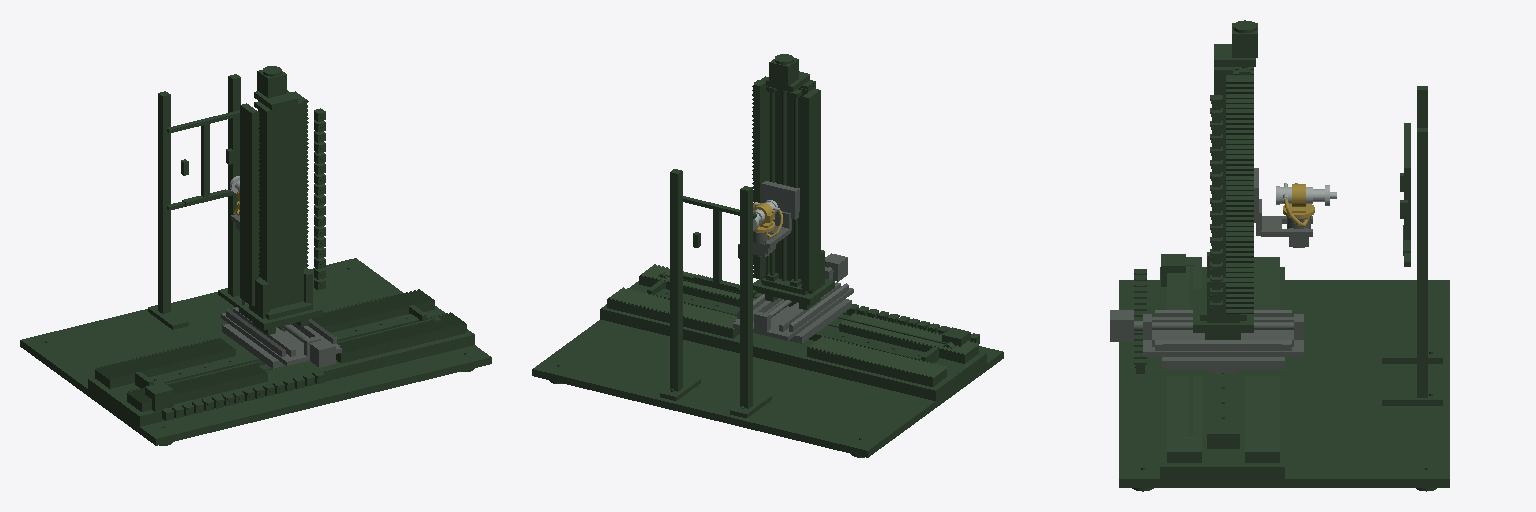
robot.urdf — xyzr_spray_robot_no_workpiece:
<?xml version='1.0' encoding='utf-8'?>
<robot name="xyzr_spray_robot_no_workpiece">
  <link name="base_link">
    <inertial>
      <origin xyz="-0.00212874073885532 -0.130865690898382 0.0523099416676217" rpy="0 0 0" />
      <mass value="154.123862648637" />
      <inertia ixx="6.77427124923454" ixy="-0.0795548036370097" ixz="0.0114634135993223" iyy="13.3313764410997" iyz="-0.473818406698655" izz="18.3661294825599" />
    </inertial>
    <visual>
      <origin xyz="0 0 0" rpy="0 0 0" />
      <geometry>
        <mesh filename="../meshes/base_link.STL" />
      </geometry>
      <material name="base_link_material">
        <color rgba="0.23 0.31 0.23 1" />
      </material>
    </visual>
    <collision>
      <origin xyz="0 0 0" rpy="0 0 0" />
      <geometry>
        <mesh filename="../meshes/base_link.STL" />
      </geometry>
    </collision>
  </link>
  <link name="x_carriage">
    <inertial>
      <origin xyz="0.000112034769962837 -0.0174951282817269 0.0260558107551005" rpy="0 0 0" />
      <mass value="12.9929949468621" />
      <inertia ixx="0.146952951879436" ixy="-2.40114171995025E-05" ixz="-2.46651005143925E-05" iyy="0.0350455041664839" iyz="0.00654039045130469" izz="0.172421915644891" />
    </inertial>
    <visual>
      <origin xyz="0 0 0" rpy="0 0 0" />
      <geometry>
        <mesh filename="../meshes/x_carriage.STL" />
      </geometry>
      <material name="x_carriage_material">
        <color rgba="0.38 0.41 0.39 1" />
      </material>
    </visual>
    <collision>
      <origin xyz="0 0 0" rpy="0 0 0" />
      <geometry>
        <mesh filename="../meshes/x_carriage.STL" />
      </geometry>
    </collision>
  </link>
  <joint name="x_joint" type="prismatic">
    <origin xyz="0 -0.24 0.11" rpy="0 0 0" />
    <parent link="base_link" />
    <child link="x_carriage" />
    <axis xyz="1 0 0" />
    <limit lower="-0.2" upper="0.2" effort="300" velocity="0.1" />
    <dynamics damping="10" friction="3" />
  </joint>
  <link name="y_carriage">
    <inertial>
      <origin xyz="0.00585188215328289 0.00689128631292131 0.27525642253792" rpy="0 0 0" />
      <mass value="34.2139088729502" />
      <inertia ixx="1.24963834291351" ixy="0.00448032896150786" ixz="-0.00671550457127509" iyy="1.31268564329652" iyz="-0.0203192647989584" izz="0.0973014309949518" />
    </inertial>
    <visual>
      <origin xyz="0 0 0" rpy="0 0 0" />
      <geometry>
        <mesh filename="../meshes/y_carriage.STL" />
      </geometry>
      <material name="y_carriage_material">
        <color rgba="0.23 0.31 0.23 1" />
      </material>
    </visual>
    <collision>
      <origin xyz="0 0 0" rpy="0 0 0" />
      <geometry>
        <mesh filename="../meshes/y_carriage.STL" />
      </geometry>
    </collision>
  </link>
  <joint name="y_joint" type="prismatic">
    <origin xyz="0 0 0.08" rpy="0 0 0" />
    <parent link="x_carriage" />
    <child link="y_carriage" />
    <axis xyz="0 1 0" />
    <limit lower="-0.06" upper="0.06" effort="300" velocity="0.1" />
    <dynamics damping="10" friction="3" />
  </joint>
  <link name="z_carriage">
    <inertial>
      <origin xyz="0.000108747422139081 0.0415845853780063 -0.0363558302615825" rpy="0 0 0" />
      <mass value="1.76975229586464" />
      <inertia ixx="0.00711741391366376" ixy="-1.10499410364904E-05" ixz="1.2787103311769E-06" iyy="0.00365749674727132" iyz="0.00271600083682015" izz="0.00539203853386506" />
    </inertial>
    <visual>
      <origin xyz="0 0 0" rpy="0 0 0" />
      <geometry>
        <mesh filename="../meshes/z_carriage.STL" />
      </geometry>
      <material name="z_carriage_material">
        <color rgba="0.38 0.41 0.39 1" />
      </material>
    </visual>
    <collision>
      <origin xyz="0 0 0" rpy="0 0 0" />
      <geometry>
        <mesh filename="../meshes/z_carriage.STL" />
      </geometry>
    </collision>
  </link>
  <joint name="z_joint" type="prismatic">
    <origin xyz="0 0.06 0.28" rpy="0 0 0" />
    <parent link="y_carriage" />
    <child link="z_carriage" />
    <axis xyz="0 0 1" />
    <limit lower="-0.14" upper="0.14" effort="300" velocity="0.05" />
    <dynamics damping="10" friction="3" />
  </joint>
  <link name="yaw_wrist">
    <inertial>
      <origin xyz="-0.00136971773902342 -0.00029296647013609 0.0236548233630209" rpy="0 0 0" />
      <mass value="0.272833444881852" />
      <inertia ixx="0.000188947844350245" ixy="9.30583572230541E-07" ixz="1.11990977966299E-05" iyy="0.000232443991505699" iyz="3.04431471678835E-06" izz="0.000115740357962921" />
    </inertial>
    <visual>
      <origin xyz="0 0 0" rpy="0 0 0" />
      <geometry>
        <mesh filename="../meshes/yaw_wrist.STL" />
      </geometry>
      <material name="yaw_wrist_material">
        <color rgba="0.65 0.56 0.28 1" />
      </material>
    </visual>
    <collision>
      <origin xyz="0 0 0" rpy="0 0 0" />
      <geometry>
        <mesh filename="../meshes/yaw_wrist.STL" />
      </geometry>
    </collision>
  </link>
  <joint name="yaw_joint" type="revolute">
    <origin xyz="0 0.1 -0.05" rpy="0 0 0" />
    <parent link="z_carriage" />
    <child link="yaw_wrist" />
    <axis xyz="0 0 1" />
    <limit lower="-1.0471975511966" upper="1.0471975511966" effort="8" velocity="1.0471975511966" />
    <dynamics damping="0.2" friction="0.05" />
  </joint>
  <link name="spray_gun">
    <inertial>
      <origin xyz="0.000126065927337668 0.00131788390631048 0.000179036157342896" rpy="0 0 0" />
      <mass value="0.746354836424836" />
      <inertia ixx="0.000769572838573611" ixy="2.75851719231878E-06" ixz="-7.35873819864247E-07" iyy="0.000130440175085833" iyz="3.91758763455746E-06" izz="0.000781386030495413" />
    </inertial>
    <visual>
      <origin xyz="0 0 0" rpy="0 0 0" />
      <geometry>
        <mesh filename="../meshes/spray_gun.STL" />
      </geometry>
      <material name="spray_gun_material">
        <color rgba="0.65 0.68 0.67 1" />
      </material>
    </visual>
    <collision>
      <origin xyz="0 0 0" rpy="0 0 0" />
      <geometry>
        <mesh filename="../meshes/spray_gun.STL" />
      </geometry>
    </collision>
  </link>
  <joint name="spray_gun_fixed" type="fixed">
    <origin xyz="0 0 0.05" rpy="0 0 0" />
    <parent link="yaw_wrist" />
    <child link="spray_gun" />
    <axis xyz="0 0 0" />
  </joint>
  <link name="tool0" />
  <joint name="tool0_fixed" type="fixed">
    <origin xyz="0 0.08 0" rpy="0 0 0" />
    <parent link="spray_gun" />
    <child link="tool0" />
    <axis xyz="0 0 0" />
  </joint>
</robot>

--- Render facts (derived) ---
Views: 3 orthographic renders of the robot side by side, from view 1: azimuth 30°, elevation 25°; view 2: azimuth 150°, elevation 25°; view 3: azimuth 270°, elevation 25°.
Robot: xyzr_spray_robot_no_workpiece — 7 links, 6 joints (1 revolute, 3 prismatic, 2 fixed); root link base_link; default pose: all joints at 0.
Links seen in each view (by area): view 1: base_link, y_carriage, x_carriage; view 2: base_link, y_carriage, x_carriage, z_carriage; view 3: base_link, y_carriage, x_carriage, z_carriage, yaw_wrist, spray_gun.
Boxes of the visible links, <box> form: base_link: <box>20,74,491,445</box>; y_carriage: <box>239,66,325,334</box>; x_carriage: <box>221,300,341,368</box>; base_link: <box>532,169,1003,457</box>; y_carriage: <box>752,54,834,309</box>; x_carriage: <box>733,253,853,343</box>; z_carriage: <box>753,181,799,256</box>; base_link: <box>1119,86,1449,491</box>; y_carriage: <box>1193,20,1257,339</box>; x_carriage: <box>1110,310,1303,373</box>; z_carriage: <box>1254,168,1312,247</box>; yaw_wrist: <box>1283,183,1314,226</box>; spray_gun: <box>1276,183,1336,205</box>.
Size in the robot's own frame: 1 by 0.72 by 0.867 metres.
6 mesh visuals loaded from 6 distinct referenced files (6 binary STL).
